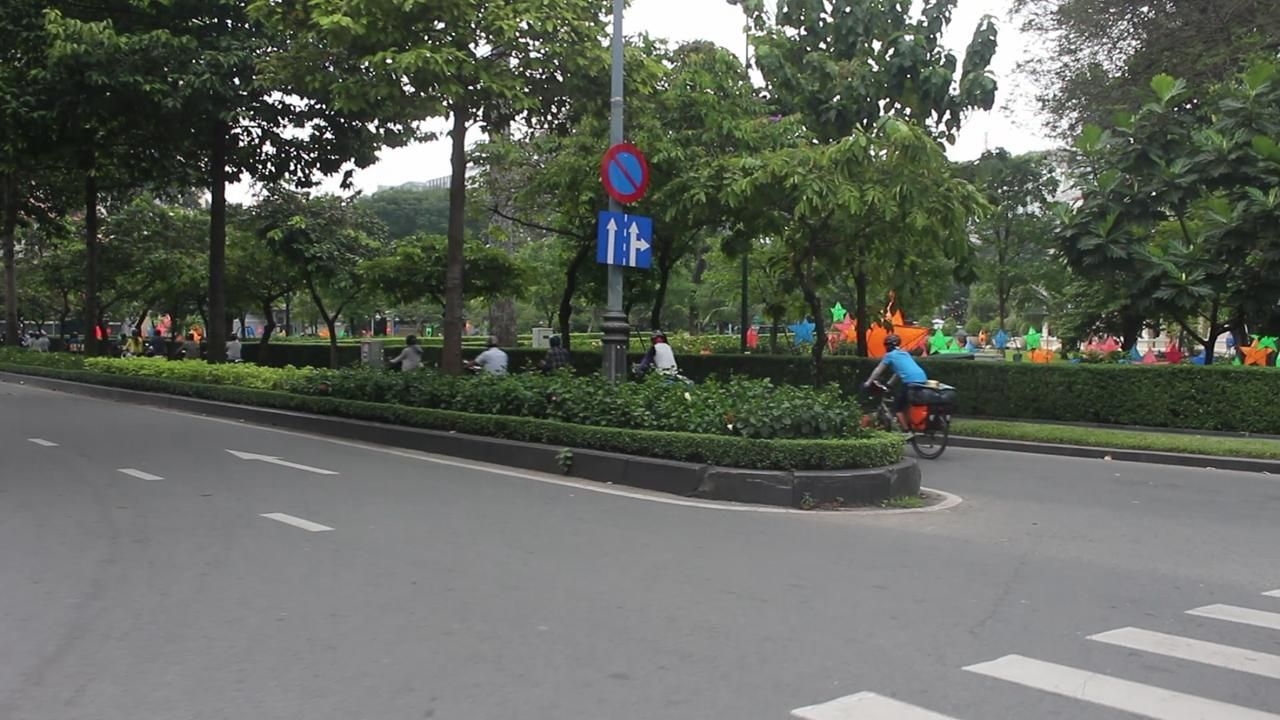P.102: (603, 143, 647, 202)
P.124c: (598, 210, 625, 266)
